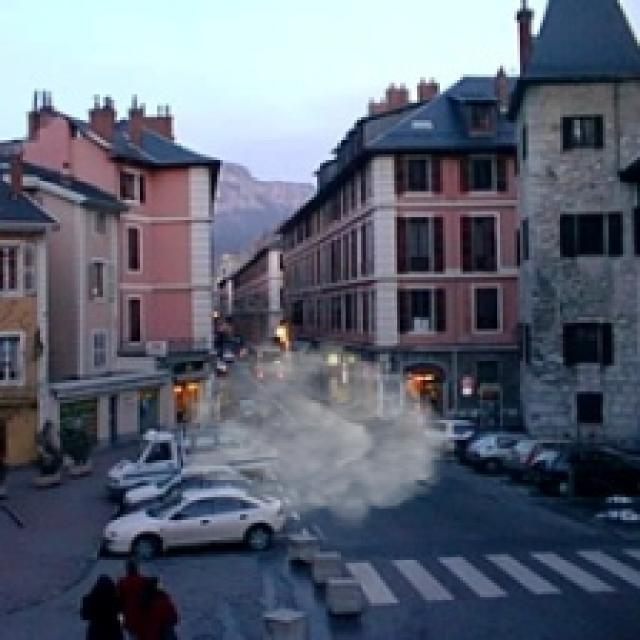Smoke: (186, 332, 454, 532)
